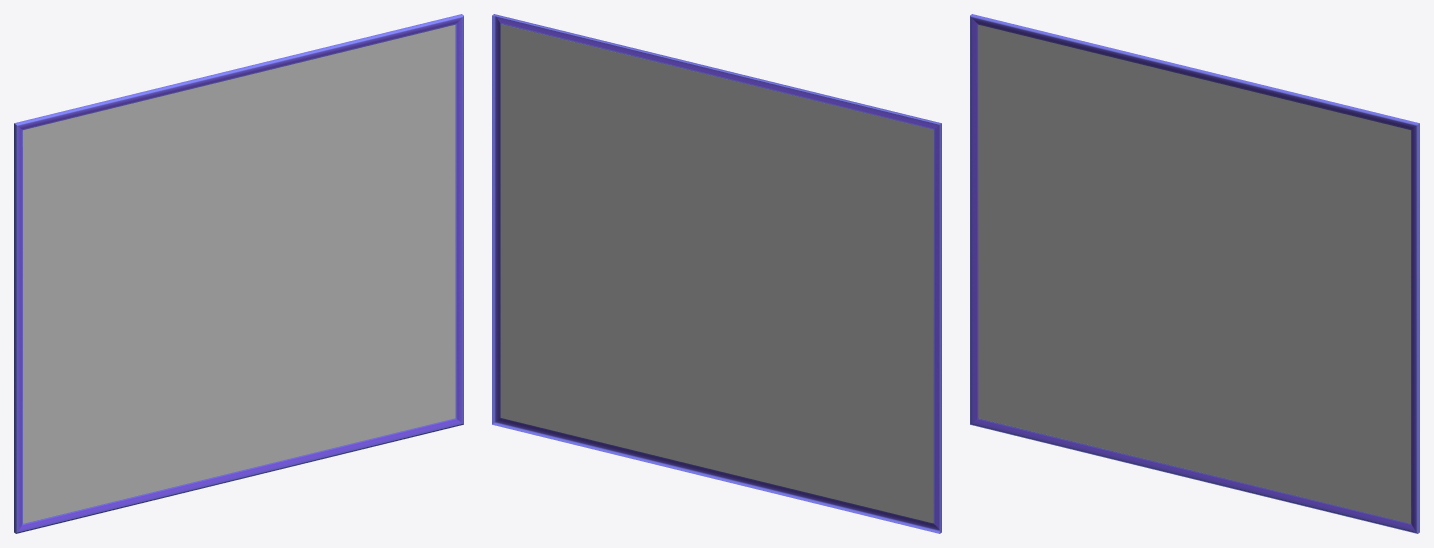
3 views of the same model, side by side, from view 1: azimuth 30°, elevation 25°; view 2: azimuth 150°, elevation 25°; view 3: azimuth 330°, elevation 25° (orthographic).
Parts seen in each view (by area): view 1: _09_17, _09_17_frame; view 2: _09_17, _09_17_frame; view 3: _09_17, _09_17_frame.
Part boxes in pixels (x1=…): _09_17: x1=23, y1=24, x2=455, y2=523; _09_17_frame: x1=14, y1=14, x2=463, y2=533; _09_17: x1=500, y1=24, x2=933, y2=523; _09_17_frame: x1=492, y1=14, x2=941, y2=533; _09_17: x1=978, y1=24, x2=1410, y2=523; _09_17_frame: x1=970, y1=14, x2=1419, y2=533.
Bounding box in the file's own units: 607 × 530 × 5.04.
